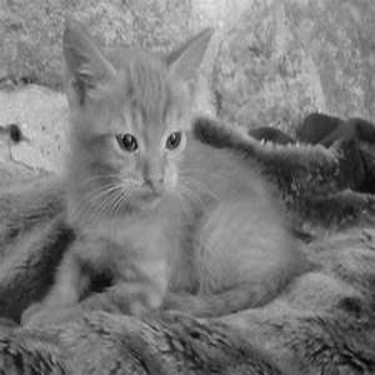cat: (19, 16, 301, 328)
